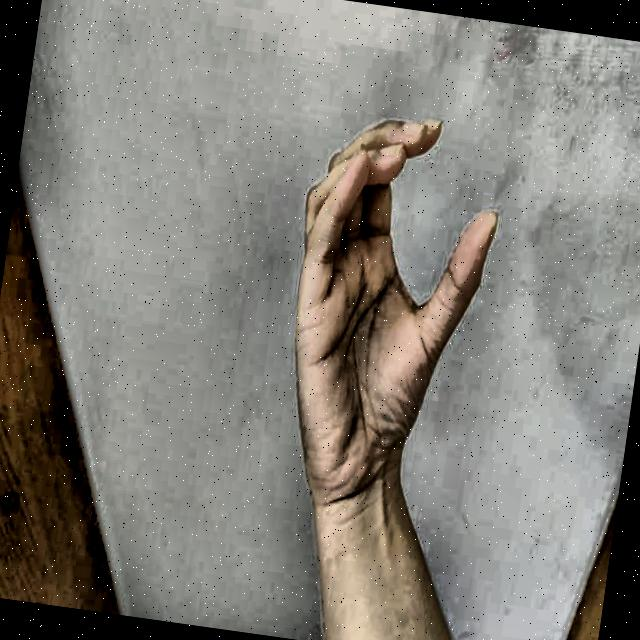A: (236, 82, 541, 517)
